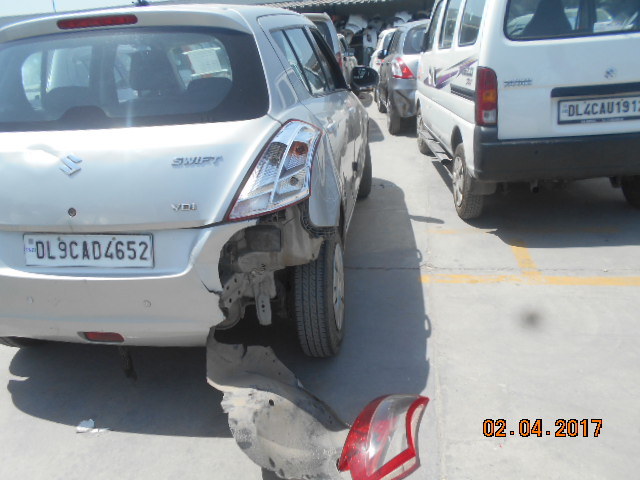Large_tear_or_damage: (208, 181, 361, 370)
